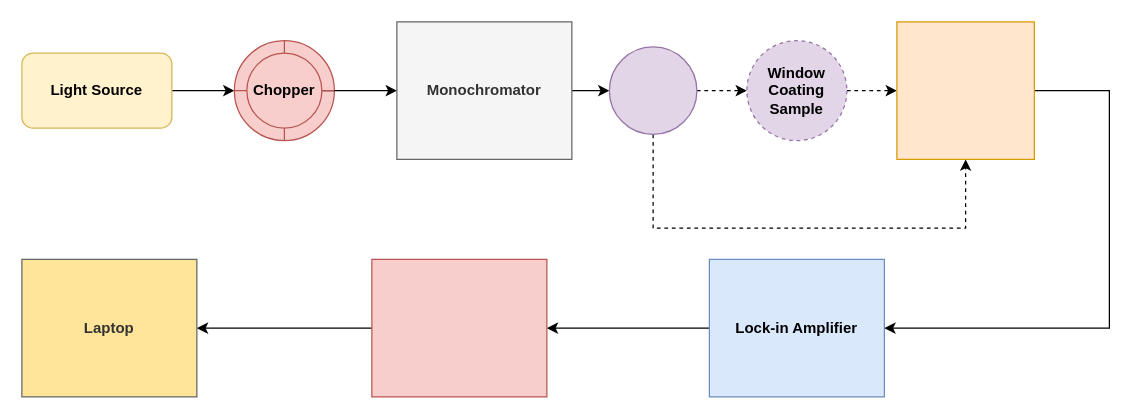
Some shapes in this 1141 by 419 pixel diagram are drawn without their labels. Each missing label, with the centre of its shape:
Detector: the point at 965,90
LabJack U6 ADC: the point at 459,327
Order Sort Filter: the point at 652,90
